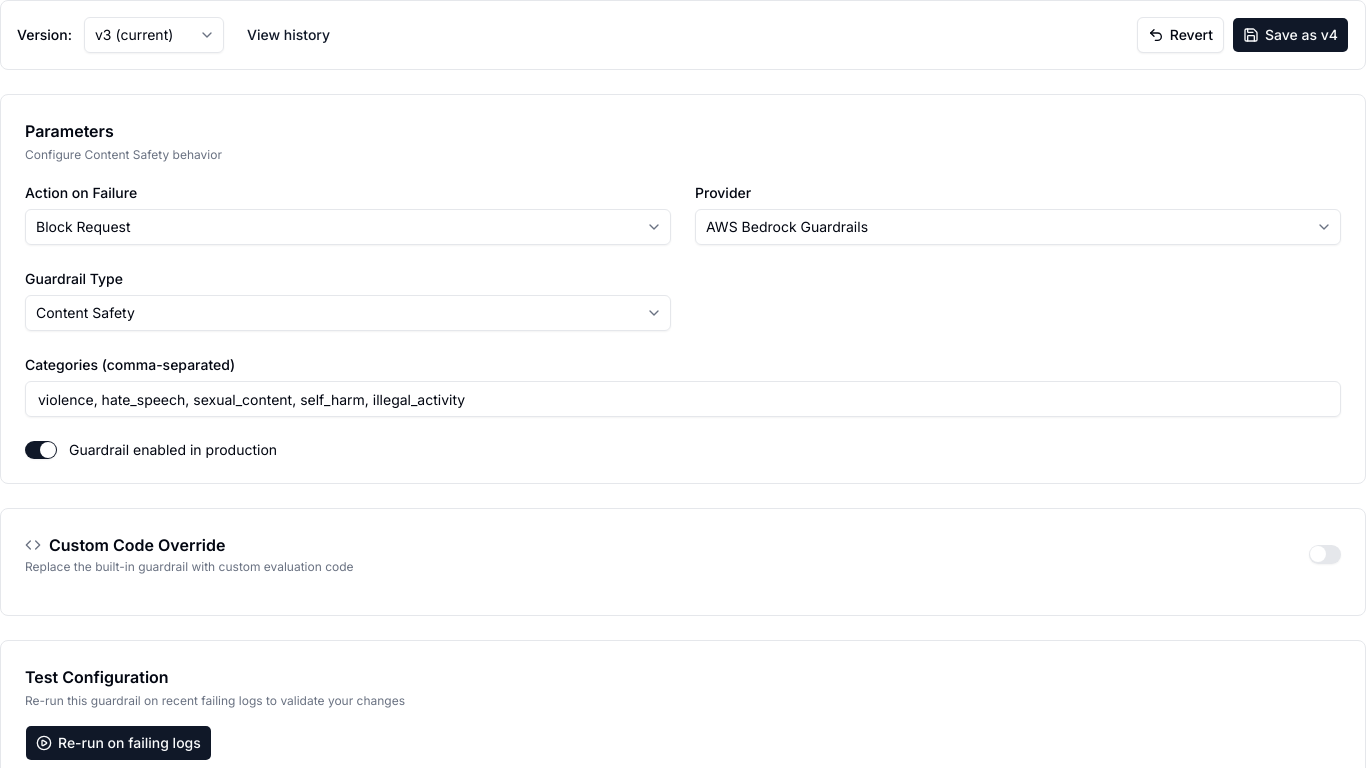
GuardrailConfig › should show custom code textarea when custom code override is toggled on
Click the switch named "Custom Code Override": (1325, 554) [1309,545,1341,564]
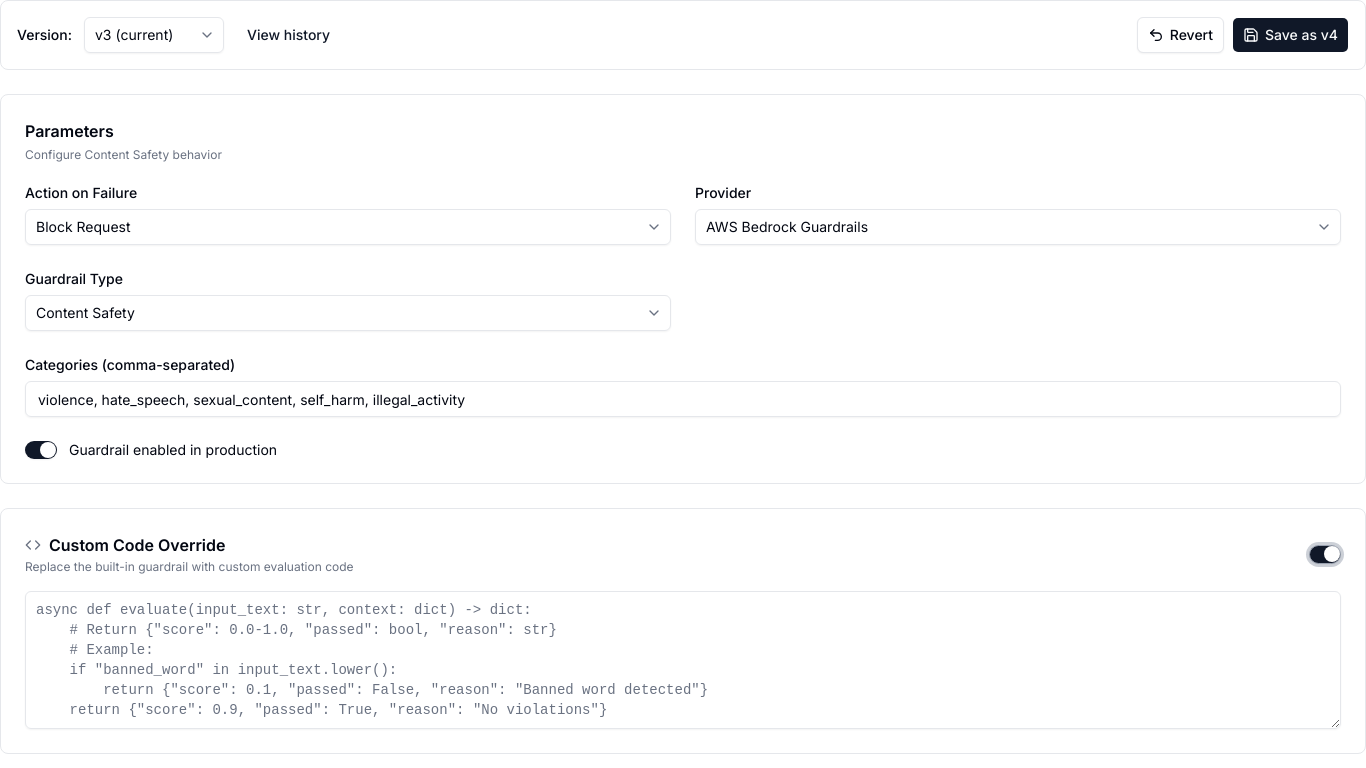
Expected: the text box with placeholder "async def evaluate" is shown, [25,591,1341,729]
